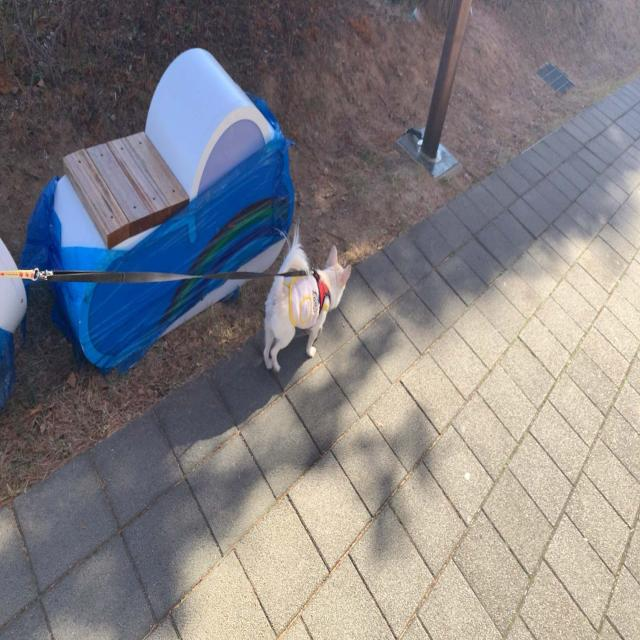Dog: (263, 220, 352, 372)
